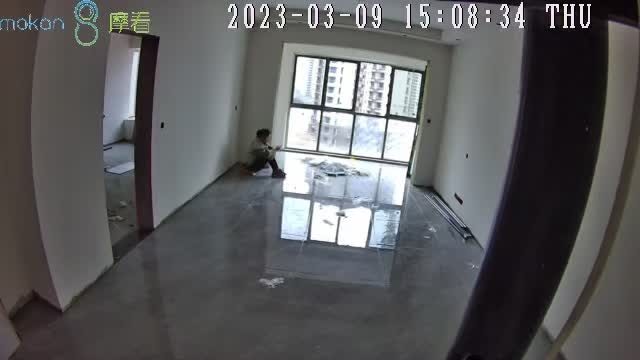people: (247, 128, 284, 178)
window: (284, 54, 425, 166)
